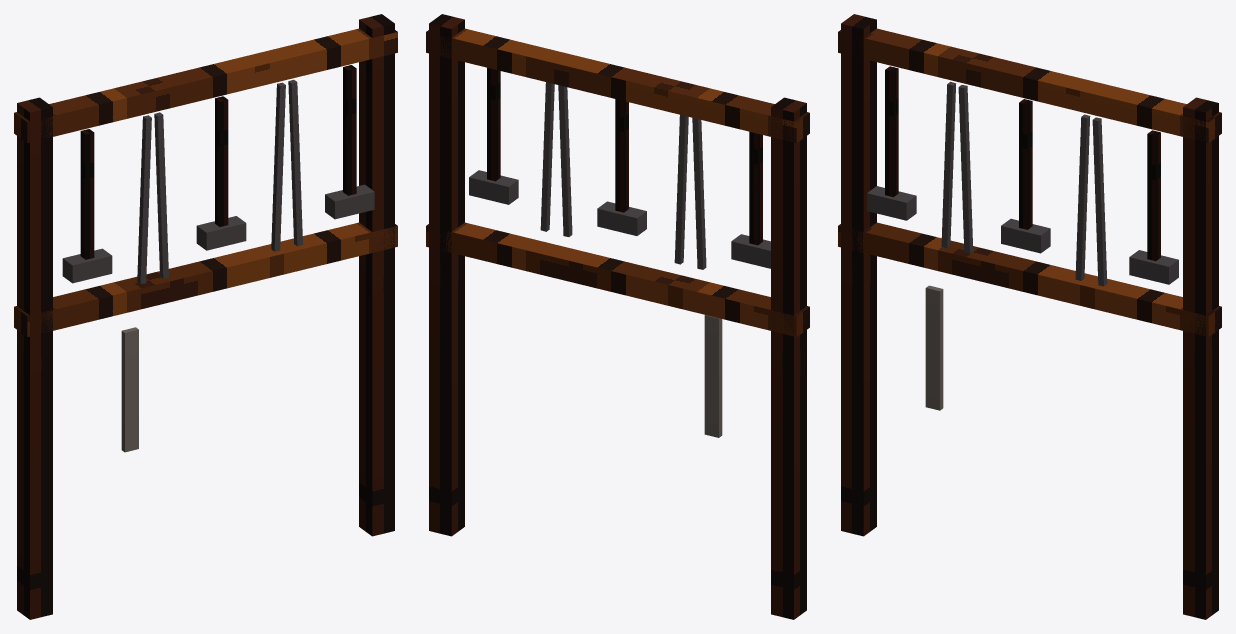
The model's file is tool_rack.glb.
3 views of the same model, side by side, from view 1: azimuth 30°, elevation 25°; view 2: azimuth 150°, elevation 25°; view 3: azimuth 330°, elevation 25° (orthographic).
Parts seen in each view (by area): view 1: tool_rack; view 2: tool_rack; view 3: tool_rack.
Boxes of the visible parts, bbox=[...] form: tool_rack: bbox=[14, 14, 397, 619]; tool_rack: bbox=[426, 14, 809, 619]; tool_rack: bbox=[838, 14, 1221, 619].
Bounding box in the file's own units: 1.3 × 1.7 × 0.13.
2 materials, 1 textured.
